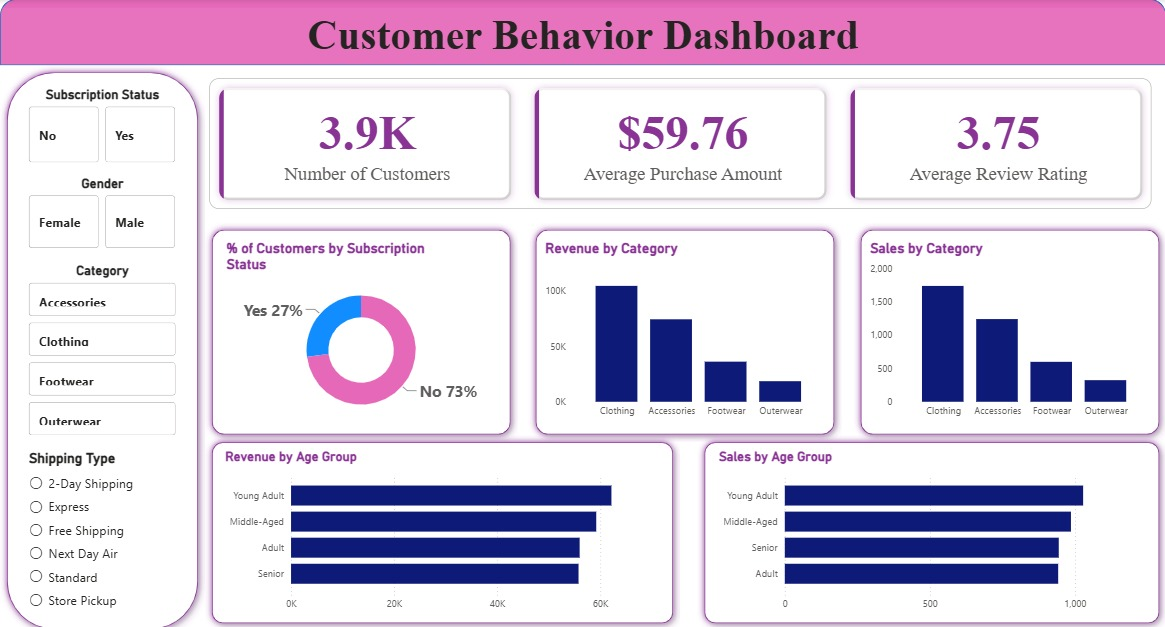

This screenshot's page, from the dashboard's own definition file:
{"tool":"powerbi","page":{"name":"Page 1","canvas":[1500,820],"ordinal":0},"visuals":[{"type":"cardVisual","fields":{"Data":["public customer.Number of Customers","public customer.Average Purchase Amount","public customer.Average Review Rating"]},"box":[252.5,85.2,1247.9,202.6],"z":0},{"type":"shape","box":[0,0,1500.3,85.2],"z":1000},{"type":"textbox","box":[0,11.3,1500.3,74],"z":2000},{"type":"shape","box":[263.7,287.8,402,281.4],"z":3000},{"type":"donutChart","title":"% of Customers by Subscription Status","fields":{"Category":["public customer.subscription_status"],"Y":["CountNonNull(public customer.customer_id)"]},"box":[286.2,310.4,357,238],"z":4000},{"type":"shape","box":[1098.3,287.8,402,281.4],"z":5000},{"type":"shape","box":[680.2,287.8,402,281.4],"z":6000},{"type":"clusteredColumnChart","title":"Revenue by Category","fields":{"Category":["public customer.category"],"Y":["Sum(public customer.purchase_amount)"]},"box":[696.3,310.4,369.9,238],"z":7000},{"type":"clusteredColumnChart","title":"Sales by Category","fields":{"Category":["public customer.category"],"Y":["CountNonNull(public customer.customer_id)"]},"box":[1114.4,310.4,369.9,238],"z":8000},{"type":"shape","box":[0,85.2,263.7,734.9],"z":9000},{"type":"advancedSlicerVisual","title":"Subscription Status","fields":{"Values":["public customer.subscription_status"]},"box":[32.2,112.6,199.4,102.9],"z":10000},{"type":"advancedSlicerVisual","title":"Gender","fields":{"Values":["public customer.gender"]},"box":[32.2,226.7,199.4,99.7],"z":11000},{"type":"advancedSlicerVisual","title":"Category","fields":{"Values":["public customer.category"]},"box":[32.2,339.3,199.4,230],"z":12000},{"type":"listSlicer","title":"Shipping Type","fields":{"Values":["public customer.shipping_type"]},"box":[32.2,580.5,199.4,212.3],"z":13000},{"type":"shape","box":[263.7,561.2,611.1,250.9],"z":15000},{"type":"clusteredBarChart","title":"Revenue by Age Group","fields":{"Category":["public customer.age_group"],"Y":["Sum(public customer.purchase_amount)"]},"box":[284.6,578.9,569.3,217.1],"z":16000},{"type":"shape","box":[897.3,561.2,603,250.9],"z":16003},{"type":"clusteredBarChart","title":"Sales by Age Group","fields":{"Category":["public customer.age_group"],"Y":["CountNonNull(public customer.customer_id)"]},"box":[919.8,578.9,558,217.1],"z":16004}]}

Visuals, with their boxes in screenshot pixels (x1, y1, x2, y2), scaled from the page's 1500x820 canvas onto the 1165x627 screenshot:
cardVisual - public customer.Number of Customers x public customer.Average Purchase Amount: x1=196, y1=65, x2=1164, y2=220
shape: x1=0, y1=0, x2=1164, y2=65
textbox: x1=0, y1=9, x2=1164, y2=65
shape: x1=205, y1=220, x2=517, y2=435
"% of Customers by Subscription Status" donutChart: x1=222, y1=237, x2=500, y2=419
shape: x1=853, y1=220, x2=1164, y2=435
shape: x1=528, y1=220, x2=841, y2=435
"Revenue by Category" clusteredColumnChart: x1=541, y1=237, x2=828, y2=419
"Sales by Category" clusteredColumnChart: x1=866, y1=237, x2=1153, y2=419
shape: x1=0, y1=65, x2=205, y2=626
"Subscription Status" advancedSlicerVisual: x1=25, y1=86, x2=180, y2=165
"Gender" advancedSlicerVisual: x1=25, y1=173, x2=180, y2=250
"Category" advancedSlicerVisual: x1=25, y1=259, x2=180, y2=435
"Shipping Type" listSlicer: x1=25, y1=444, x2=180, y2=606
shape: x1=205, y1=429, x2=679, y2=621
"Revenue by Age Group" clusteredBarChart: x1=221, y1=443, x2=663, y2=609
shape: x1=697, y1=429, x2=1164, y2=621
"Sales by Age Group" clusteredBarChart: x1=714, y1=443, x2=1148, y2=609
